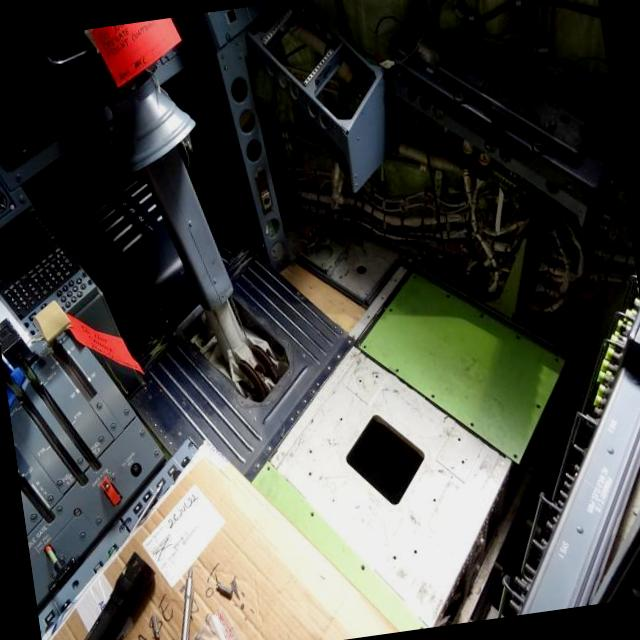Missing Fastener: (354, 555, 368, 574), (306, 504, 320, 522), (427, 387, 442, 403), (380, 304, 400, 316), (514, 332, 530, 346), (530, 398, 544, 413), (550, 354, 562, 368), (392, 364, 407, 375), (262, 461, 274, 474), (476, 310, 488, 322), (468, 418, 478, 432), (458, 456, 468, 467), (410, 270, 421, 280), (413, 545, 421, 558), (305, 447, 315, 456), (510, 450, 519, 460), (431, 496, 438, 508), (336, 414, 346, 422), (446, 290, 454, 300), (306, 470, 315, 478), (456, 436, 464, 444), (362, 343, 370, 351), (392, 553, 398, 563), (358, 377, 364, 385), (372, 374, 380, 379)
